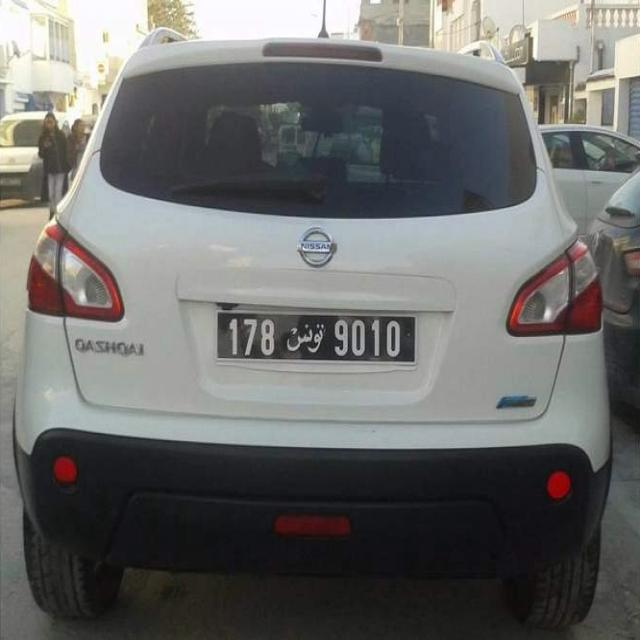licence plate: (216, 311, 418, 365)
